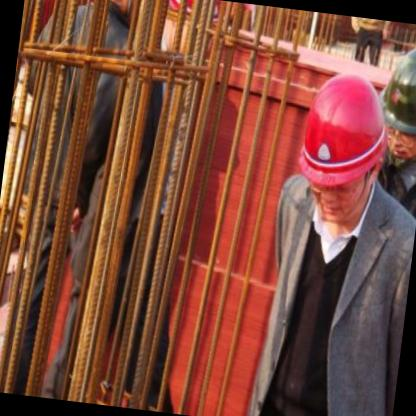helmet: (291, 63, 396, 229), (158, 0, 254, 71), (374, 35, 416, 162)
